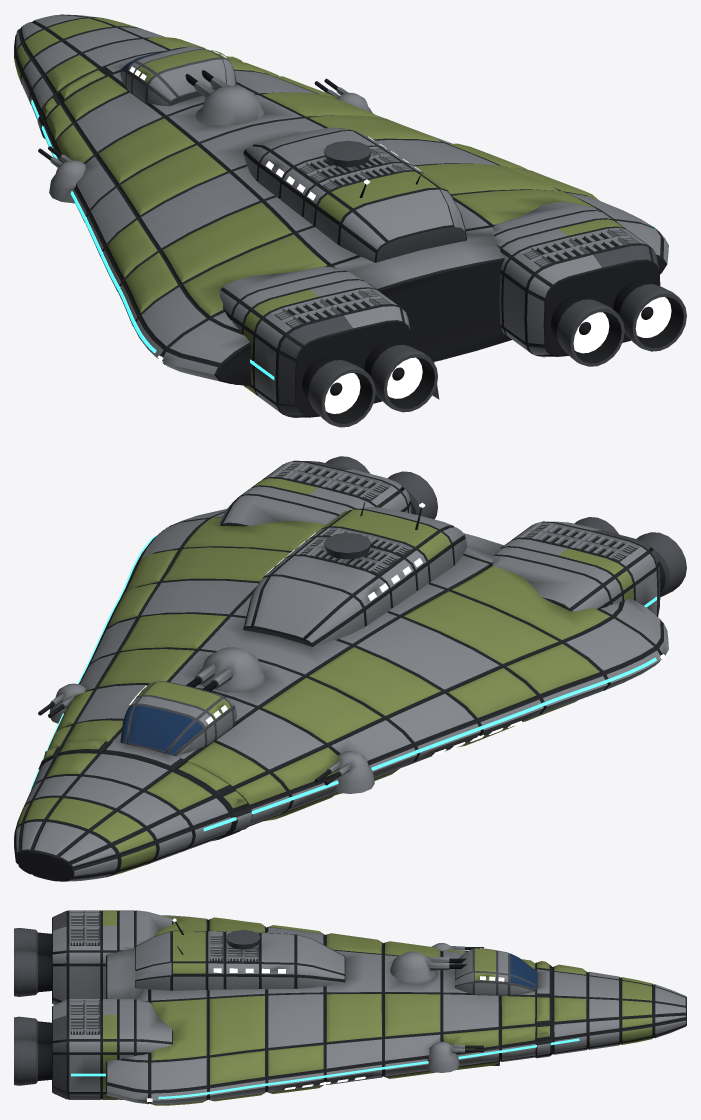
Rendered from ship_bulwark.glb.
The picture shows the model from 3 angles, top to bottom: view 1: azimuth 30°, elevation 25°; view 2: azimuth 150°, elevation 25°; view 3: azimuth 270°, elevation 25°; orthographic projection. The views are drawn at different scales.
Parts seen in each view (by area): view 1: ship_bulwark_mesh; view 2: ship_bulwark_mesh; view 3: ship_bulwark_mesh.
Boxes of the visible parts, <box> form: ship_bulwark_mesh: <box>14,14,686,427</box>; ship_bulwark_mesh: <box>14,456,686,881</box>; ship_bulwark_mesh: <box>14,910,686,1105</box>.
Bounding box in the file's own units: 29.17 × 10.76 × 46.1.
